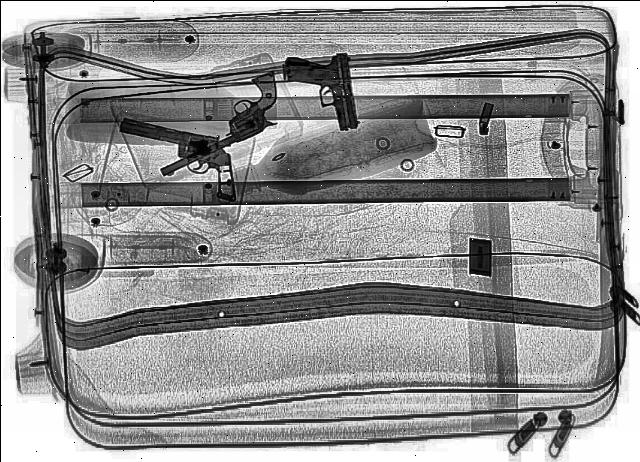Gun: (124, 71, 310, 178), (96, 116, 266, 202), (284, 52, 362, 134)
